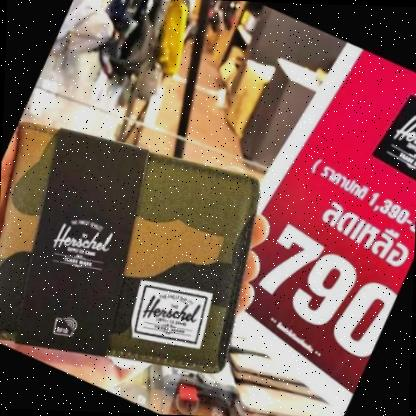bag: (0, 110, 269, 383)
